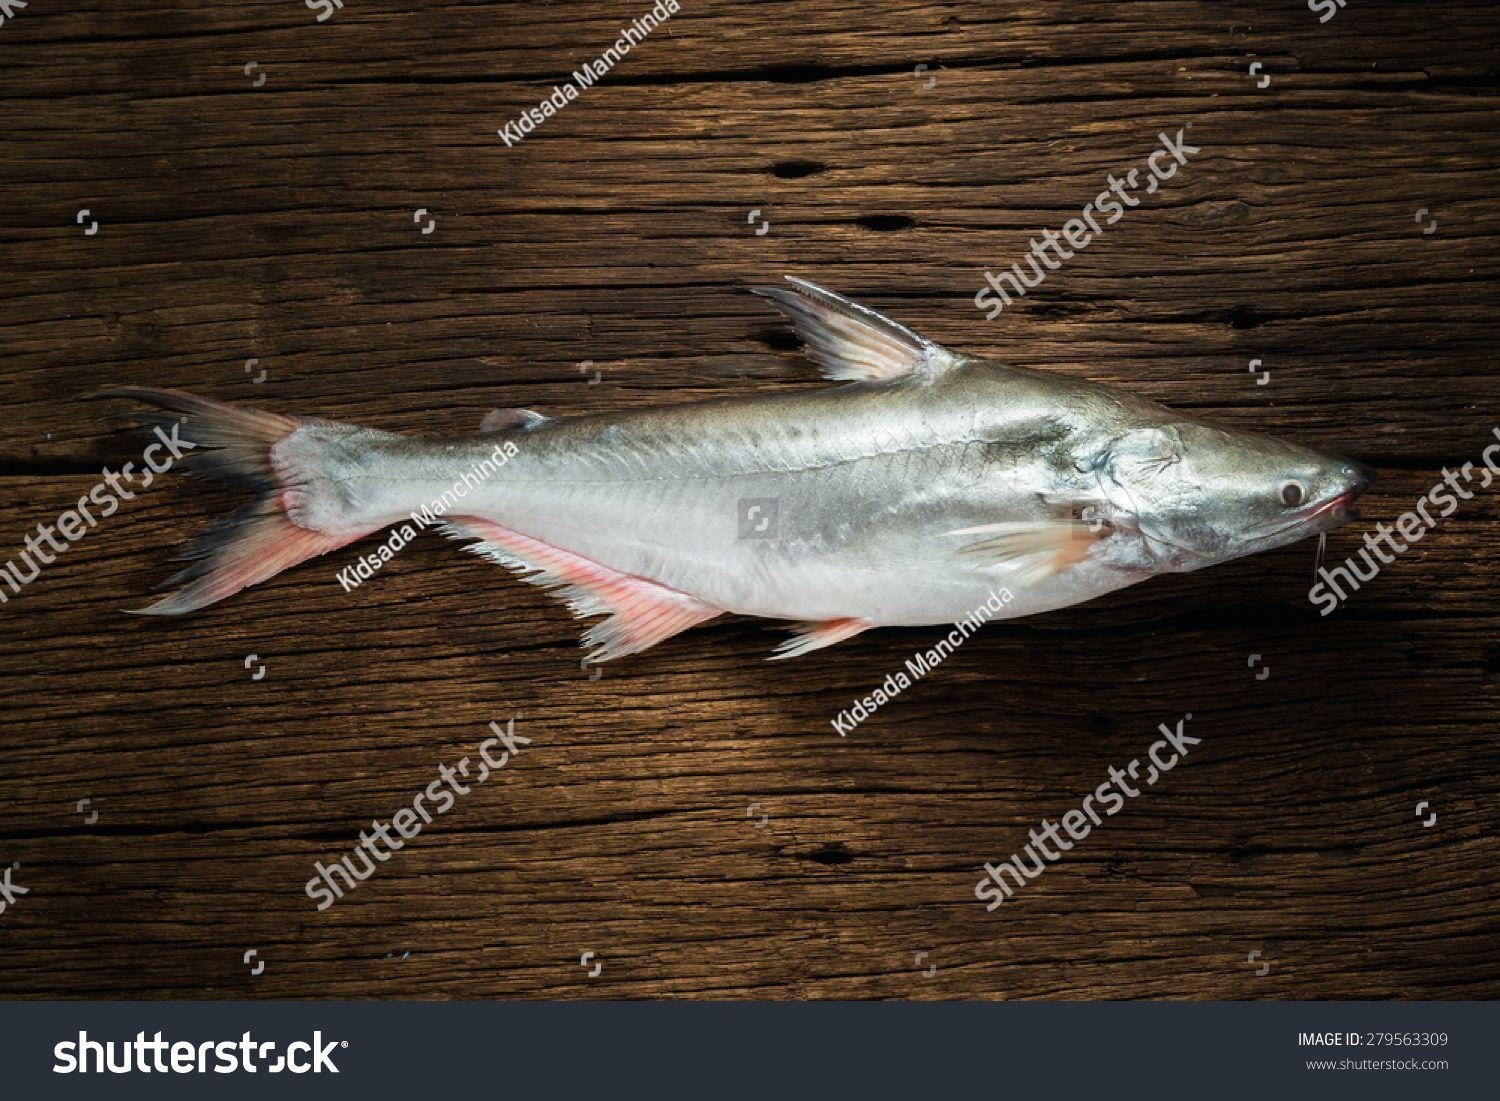Pangasius: (78, 264, 1366, 680)
